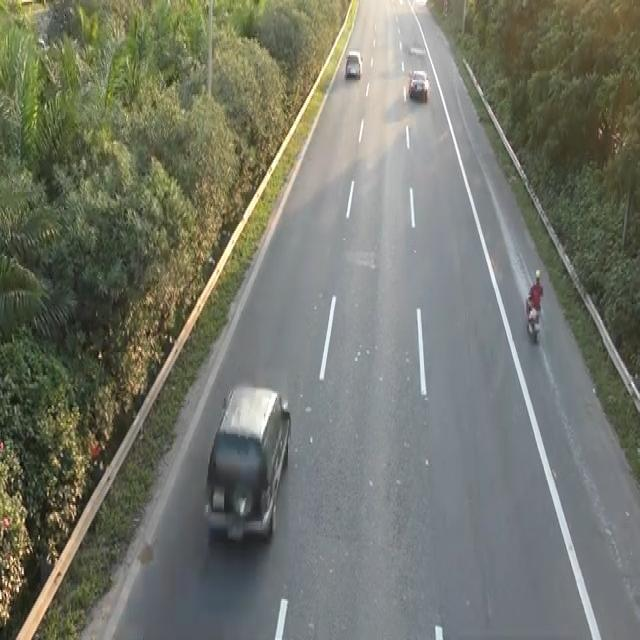car: (202, 378, 292, 546)
minibus: (524, 292, 543, 343)
